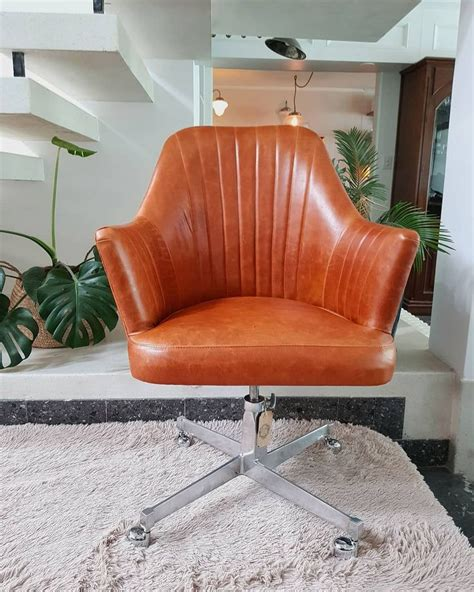cuero: (95, 122, 421, 390)
